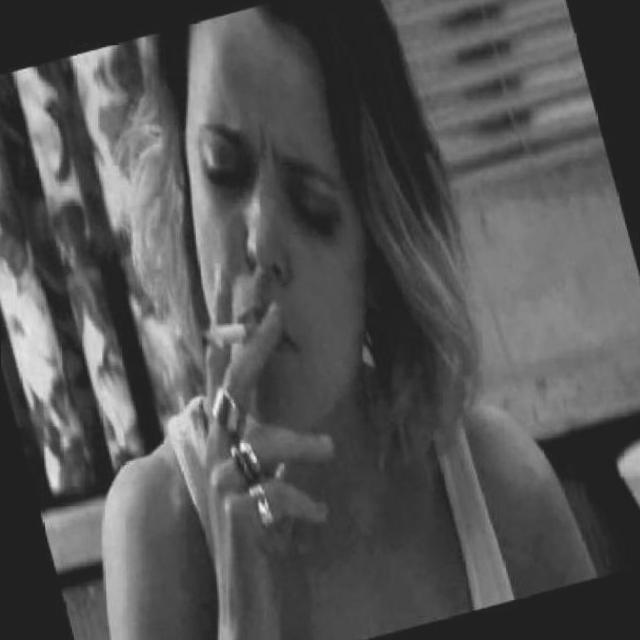smoke: (196, 312, 264, 358)
